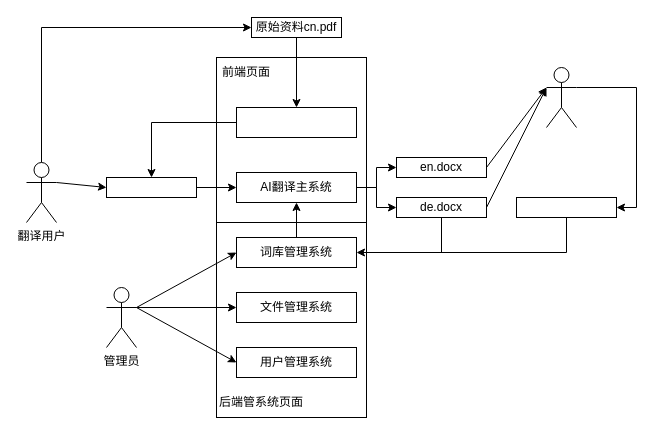
The diagram is 662 pixels wide and 435 high, and some of its shapes have lost their labels. The shapes that lost their labels are listed below. From the top down, each one's box as (x1, y1, x2, y2) in pixels, then its label:
(546, 66, 576, 128): 外国客户
(236, 106, 356, 138): pdf转word 系统
(106, 176, 196, 198): cn.docx
(516, 196, 616, 218): 客户改后de.docx
